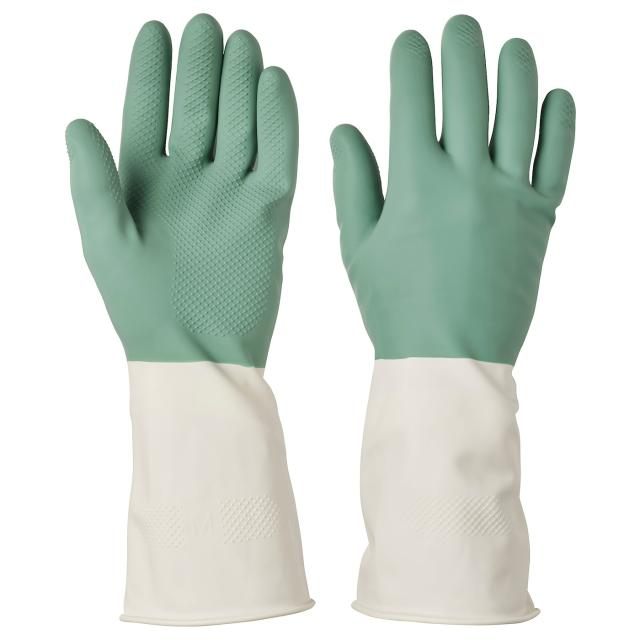gloves: (56, 10, 317, 631), (328, 5, 581, 629)
